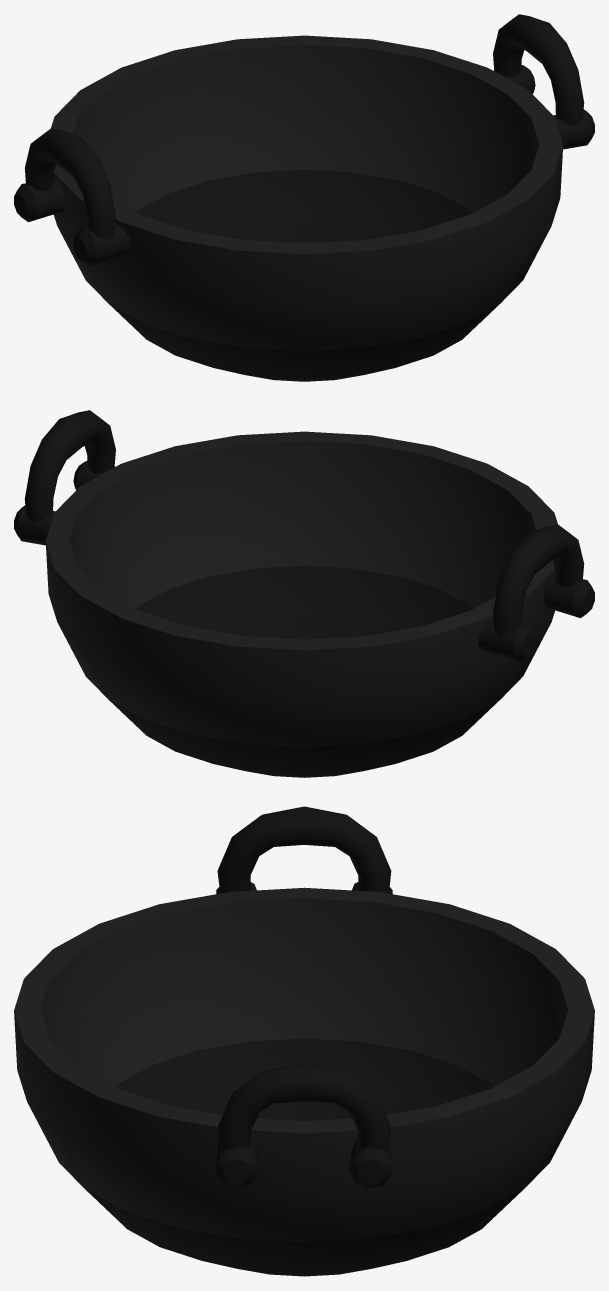
File: Wok_01_Burnt.fbx
3 renders of one model, top to bottom at view 1: azimuth 30°, elevation 25°; view 2: azimuth 150°, elevation 25°; view 3: azimuth 270°, elevation 25°, orthographic. The views are drawn at different scales.
Parts seen in each view (by area): view 1: Wok_01_Burnt; view 2: Wok_01_Burnt; view 3: Wok_01_Burnt.
Part boxes in pixels (bbox=[...]): Wok_01_Burnt: bbox=[14, 14, 594, 381]; Wok_01_Burnt: bbox=[14, 410, 594, 777]; Wok_01_Burnt: bbox=[14, 806, 594, 1276].
Size of the model in its own units: 91.52 by 46.47 by 80.4.
